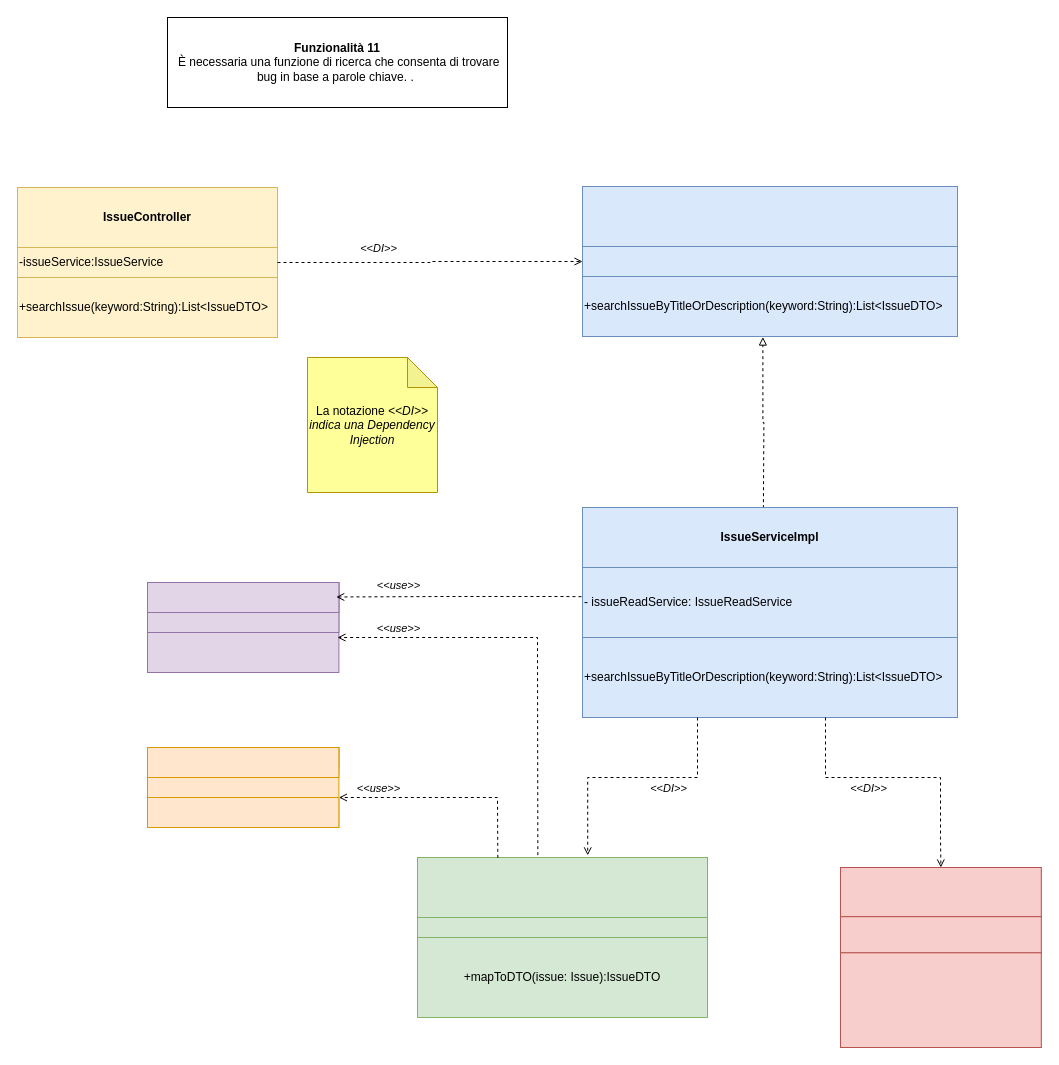
This 1059x1065 diagram has some shape labels left out. Here are the shapes that lost their labels. From the top down, the box of each, then its label:
(582, 186, 958, 246): <<interface>> IssueService
(146, 582, 339, 612): Issue
(146, 746, 339, 778): << record>> IssueDTO
(416, 856, 708, 918): IssueMapper
(840, 866, 1041, 917): <<interface>> IssueRepository
